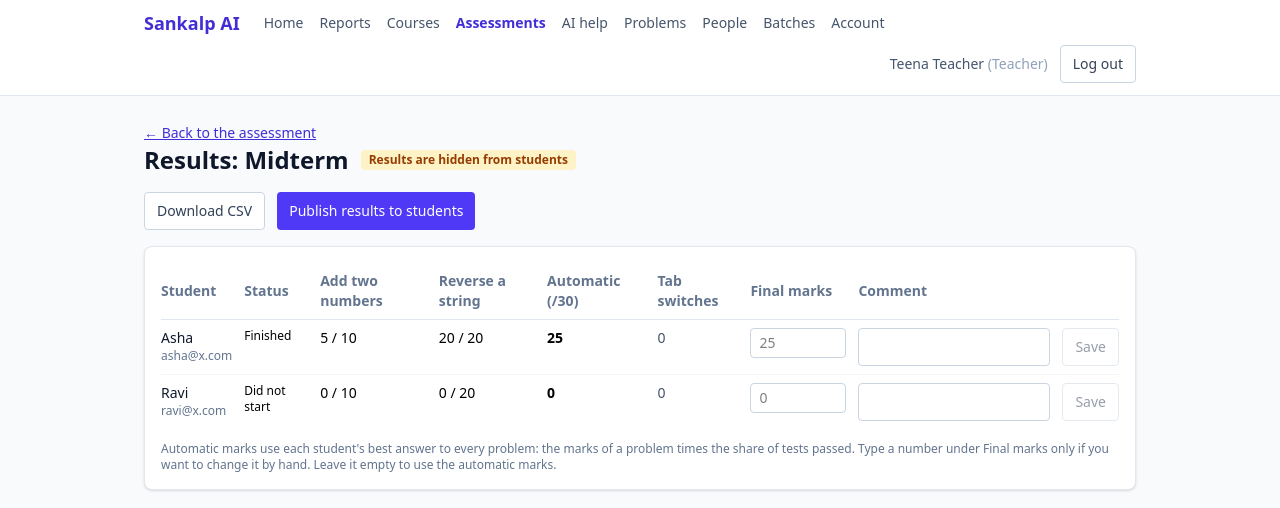
Test case: results page › saves a hand-given mark and comment
Expected: the button with aria-label "Save marks for Asha" is disabled, [1062,328,1119,366]
Type "27" into the number field named "Final marks for Asha".
click(798, 343); type("27")  # box [750,328,846,358]
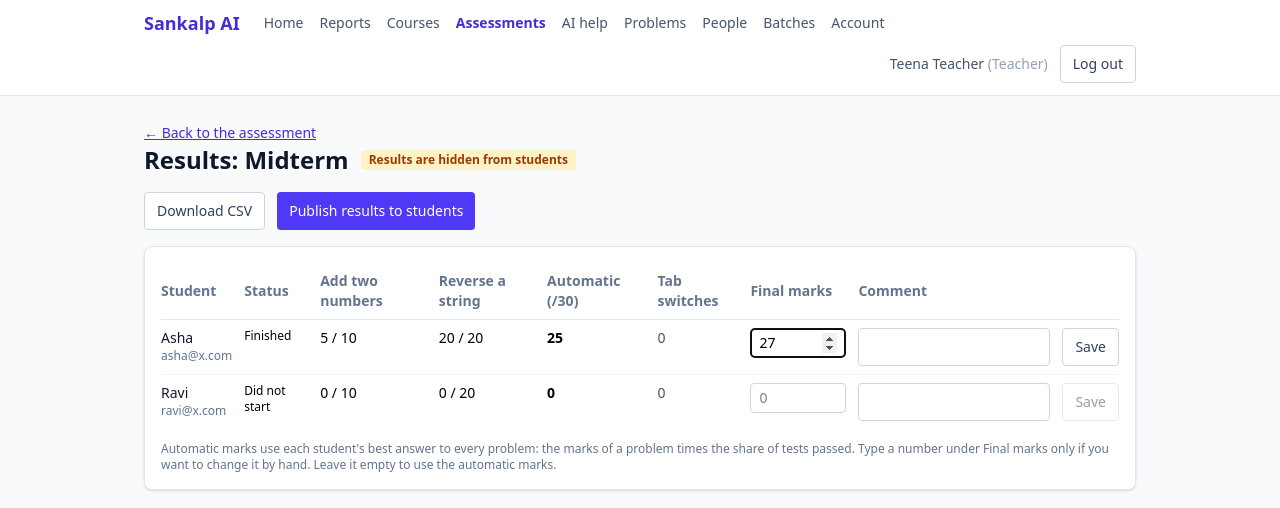
Type "  Nice " into the field named "Comment for Asha".
click(954, 347); type("  Nice ")  # box [858,328,1050,366]
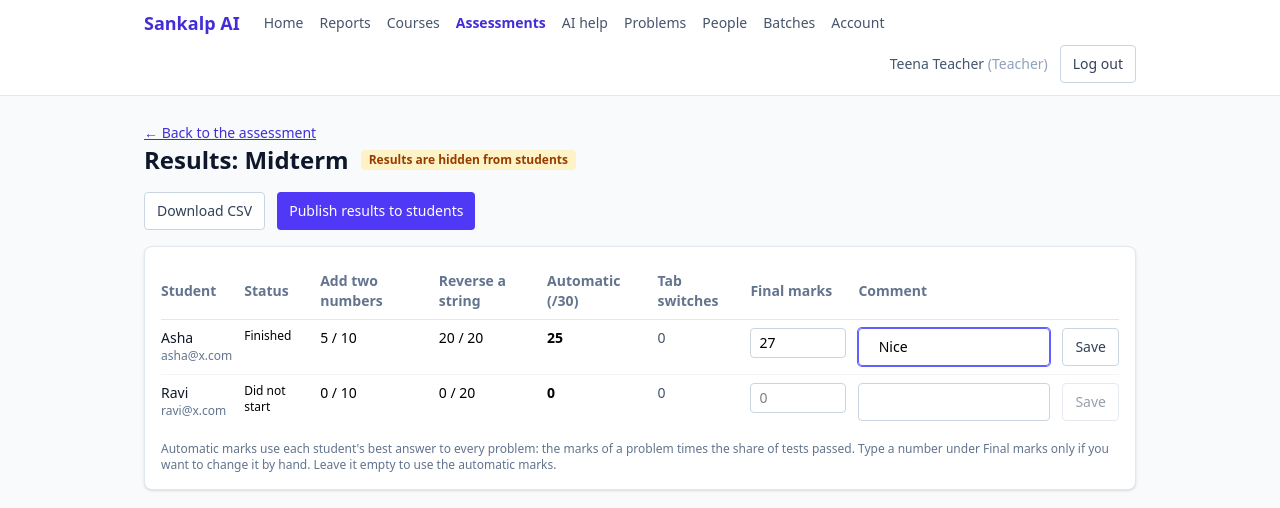
Click the button with aria-label "Save marks for Asha".
click(1091, 347)  # box [1062,328,1119,366]
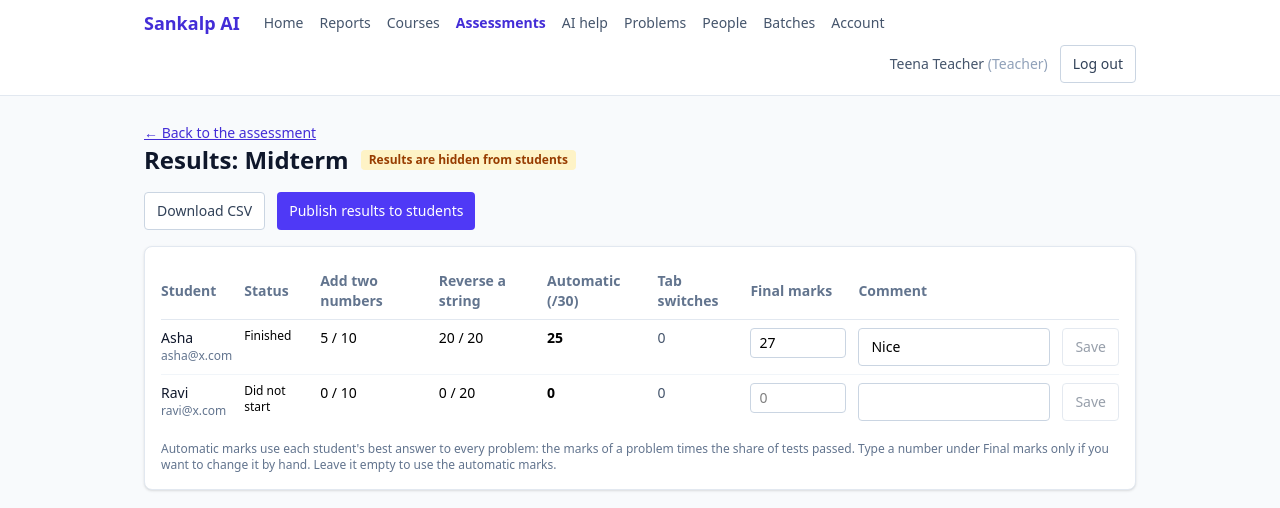
Now the button with aria-label "Save marks for Asha" is disabled, box [1062,328,1119,366]
